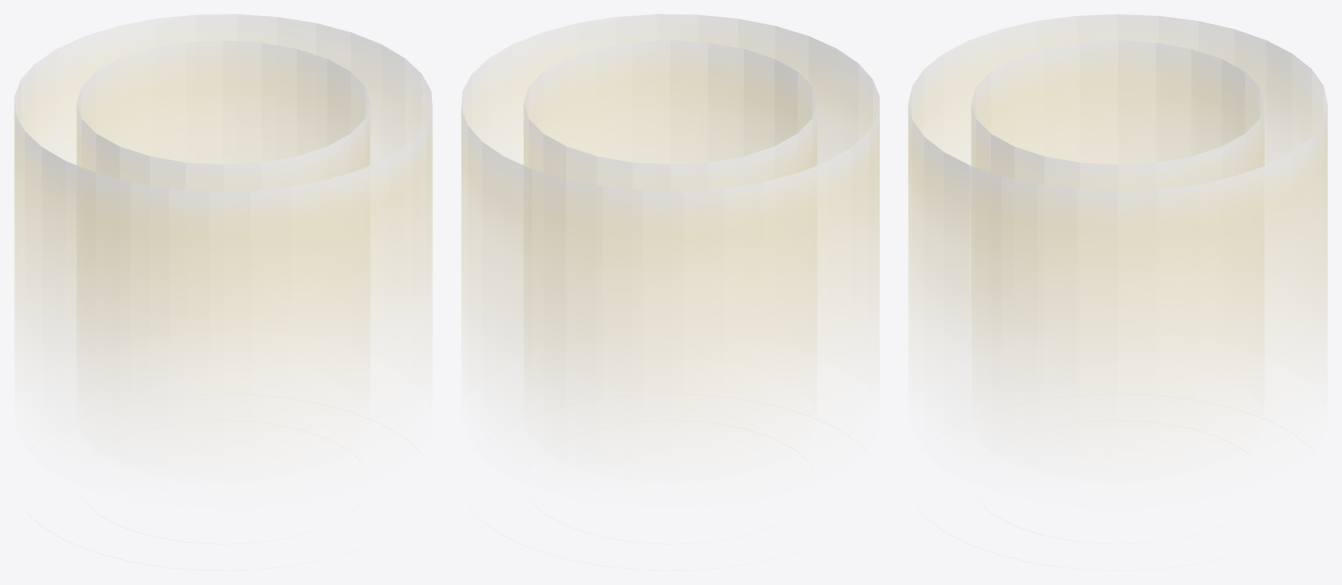
File: fx_godlight.glb
The picture shows the model from 3 angles, left to right: view 1: azimuth 30°, elevation 25°; view 2: azimuth 150°, elevation 25°; view 3: azimuth 270°, elevation 25°; orthographic projection.
Parts seen in each view (by area): view 1: fx_godlight; view 2: fx_godlight; view 3: fx_godlight.
Part boxes in pixels (left/top/right/bottom): fx_godlight: left=14, top=14, right=432, bottom=570; fx_godlight: left=461, top=14, right=879, bottom=570; fx_godlight: left=908, top=14, right=1327, bottom=570.
Bounding box in the file's own units: 1 × 1 × 1.
1 material, 1 textured.
